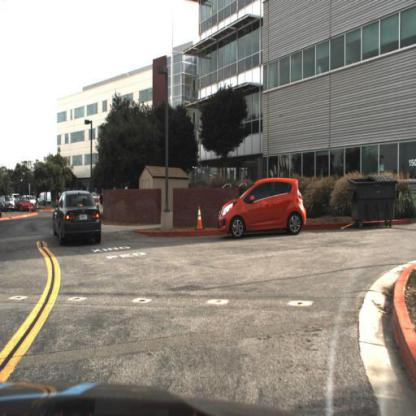car: (217, 177, 307, 242), (51, 189, 104, 249), (16, 196, 35, 217)
